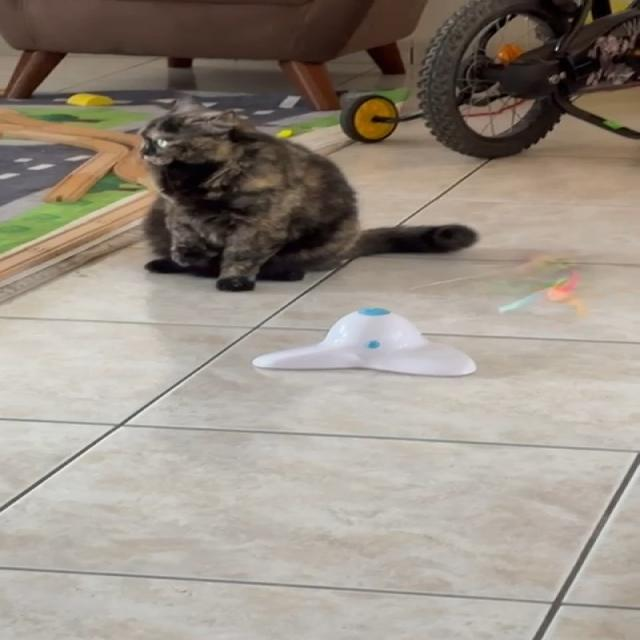authorized: (136, 93, 479, 291)
